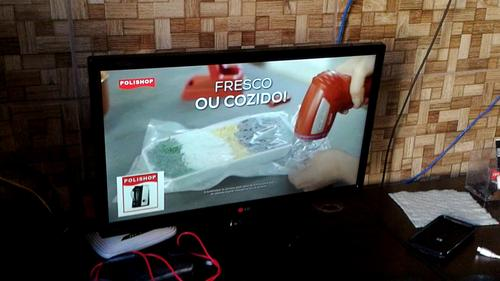Polishop #1: (117, 170, 165, 217)
